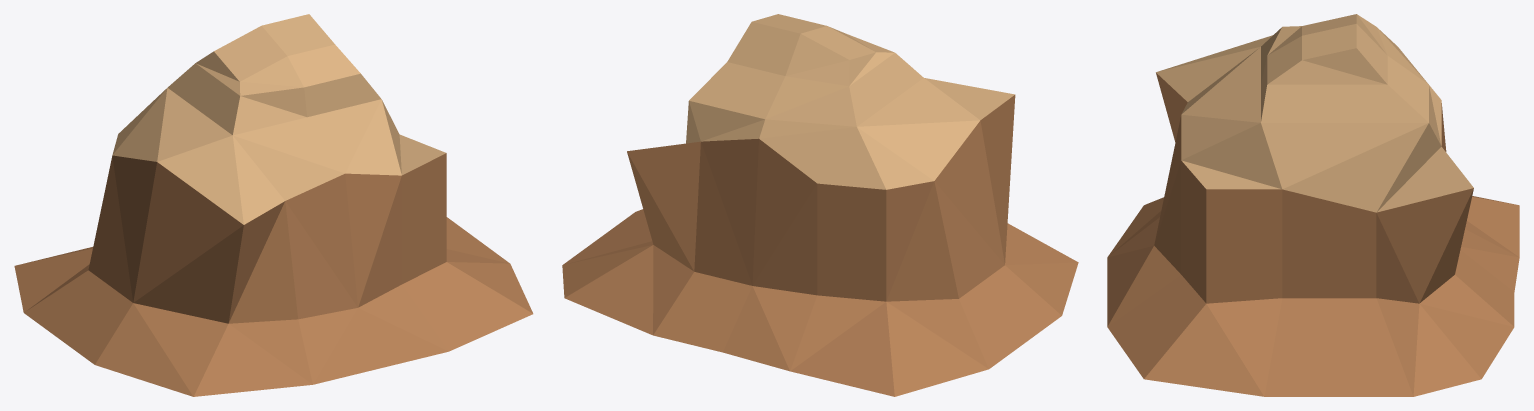
File: Rock_3.fbx
3 renders of one model, left to right at view 1: azimuth 30°, elevation 25°; view 2: azimuth 150°, elevation 25°; view 3: azimuth 270°, elevation 25°, orthographic. The views are drawn at different scales.
Visible parts, largest first — view 1: Rock_3; view 2: Rock_3; view 3: Rock_3.
Part boxes in pixels (left/top/right/bottom): Rock_3: left=14, top=14, right=533, bottom=396; Rock_3: left=562, top=14, right=1078, bottom=396; Rock_3: left=1107, top=14, right=1519, bottom=396.
Bounding box in the file's own units: 279 × 229 × 164.
